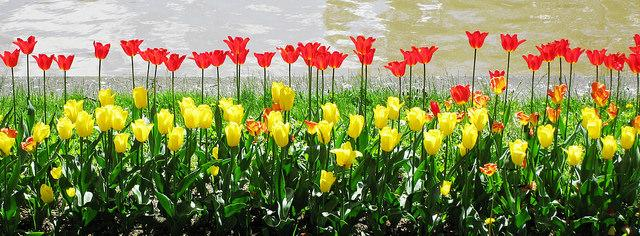tulip: (225, 36, 249, 67), (346, 107, 367, 142), (268, 116, 290, 148), (220, 99, 246, 125), (406, 103, 429, 132), (334, 141, 359, 167), (73, 110, 95, 139), (422, 126, 443, 156), (94, 104, 115, 133), (508, 136, 529, 165), (465, 107, 490, 131), (300, 37, 320, 67), (276, 83, 296, 113), (597, 134, 620, 160), (463, 28, 489, 51), (89, 37, 113, 61), (449, 82, 473, 106), (12, 31, 37, 54), (130, 116, 151, 143), (417, 41, 437, 69), (277, 42, 300, 66), (537, 122, 556, 150), (380, 125, 399, 153), (121, 35, 145, 57), (166, 48, 187, 73), (206, 47, 228, 70), (500, 31, 524, 52), (189, 46, 210, 70), (166, 124, 186, 149), (55, 50, 76, 73), (224, 120, 241, 148), (56, 115, 74, 141), (586, 116, 604, 142), (151, 41, 169, 67), (348, 35, 377, 51), (26, 124, 49, 144), (316, 119, 333, 146), (0, 45, 19, 69), (586, 45, 606, 67), (253, 49, 275, 69), (184, 102, 199, 131), (400, 43, 418, 67), (439, 111, 458, 133), (566, 143, 585, 165), (327, 48, 346, 70), (385, 58, 407, 77), (373, 102, 389, 128), (553, 34, 569, 60), (322, 102, 340, 125), (156, 110, 174, 132), (536, 39, 554, 61), (131, 84, 148, 107), (30, 53, 51, 71), (524, 50, 541, 72), (566, 43, 582, 66), (356, 48, 378, 64), (387, 95, 401, 117), (141, 45, 156, 63), (604, 50, 619, 68)
